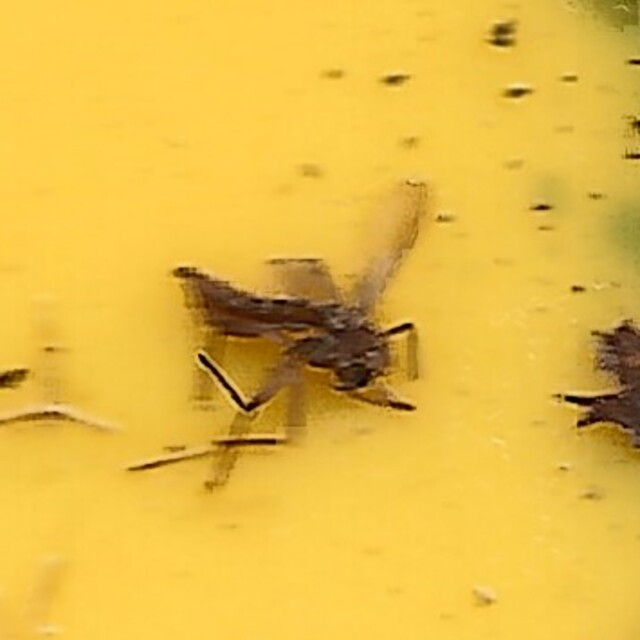Nematocera: (180, 169, 460, 471)
